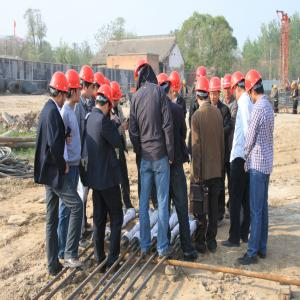red: (49, 72, 69, 109), (65, 69, 82, 109), (246, 70, 265, 104), (79, 64, 96, 101), (157, 72, 173, 103), (96, 86, 113, 115), (135, 59, 152, 88), (195, 77, 210, 107), (209, 76, 223, 108), (232, 71, 246, 102), (93, 72, 106, 99), (170, 71, 181, 99), (111, 81, 122, 108), (223, 74, 233, 102)
yellow: (183, 79, 187, 87), (274, 84, 278, 92), (293, 82, 297, 89)
